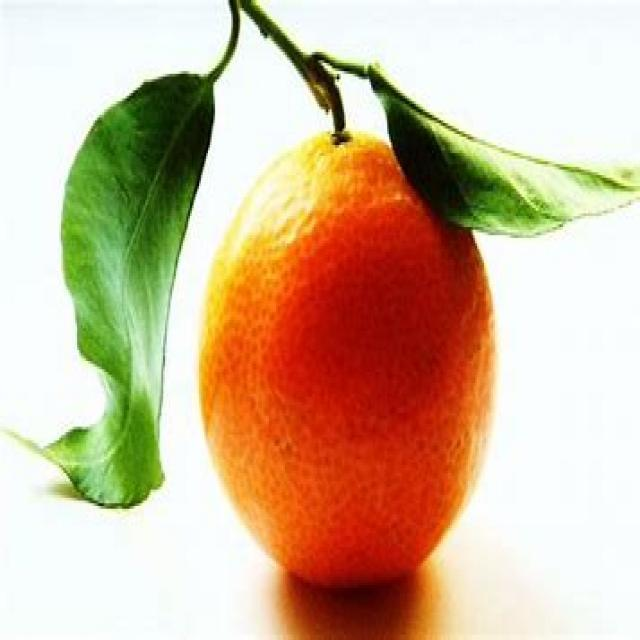Orange: (193, 132, 502, 590)
